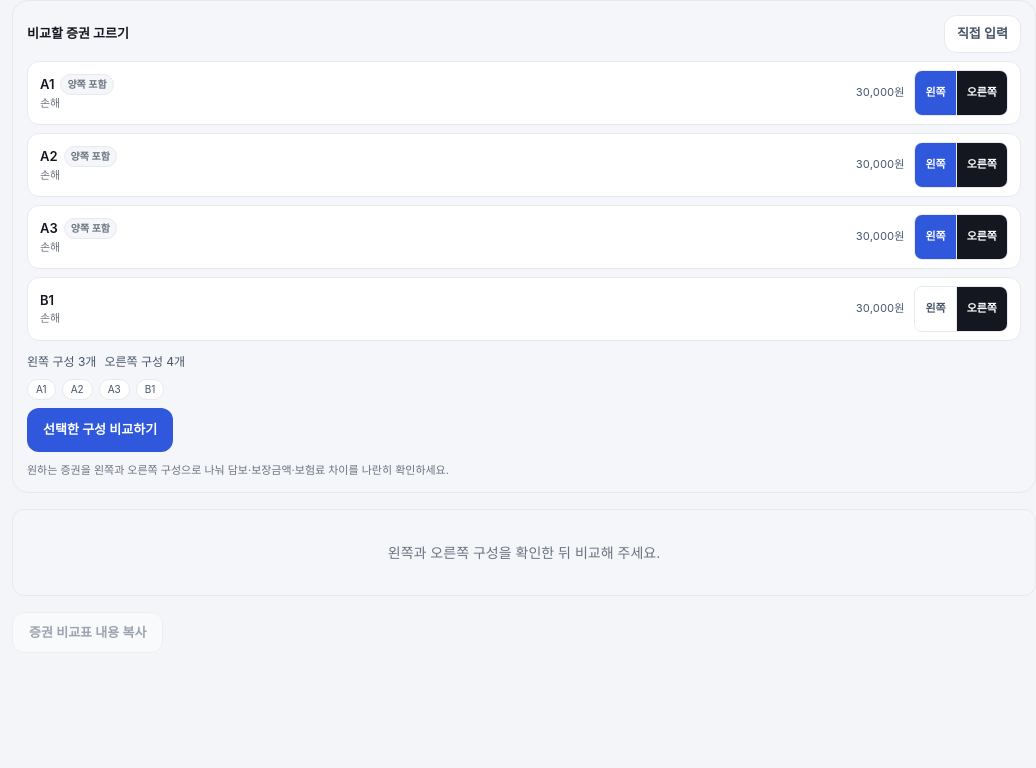
Scenario: multi-policy overlap selection › announces a comparison 500 error through an assertive alert region
This screenshot has width=1036, height=768.
Expected: the button with aria-label "A1 왼쪽에서 제외" is shown, [915, 70, 956, 114]
Click the button "선택한 구성 비교하기": (100, 430) [27, 408, 173, 452]
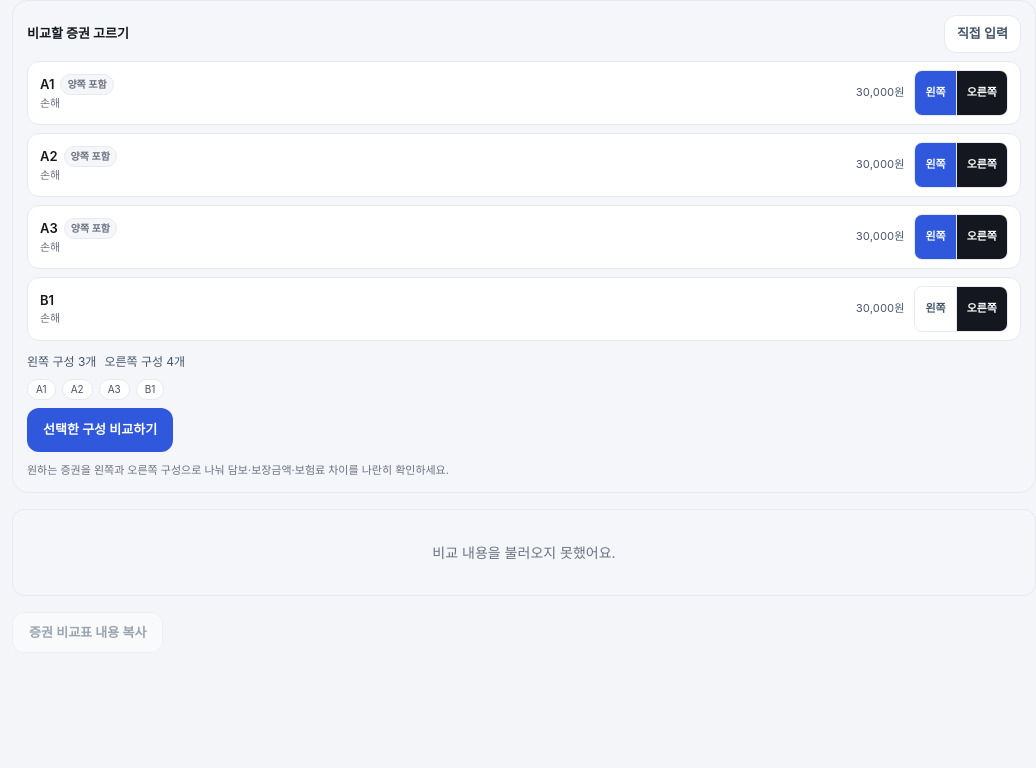
Expected: the message "비교 내용을 불러오지 못했어요." is shown, [12, 508, 1035, 596]
